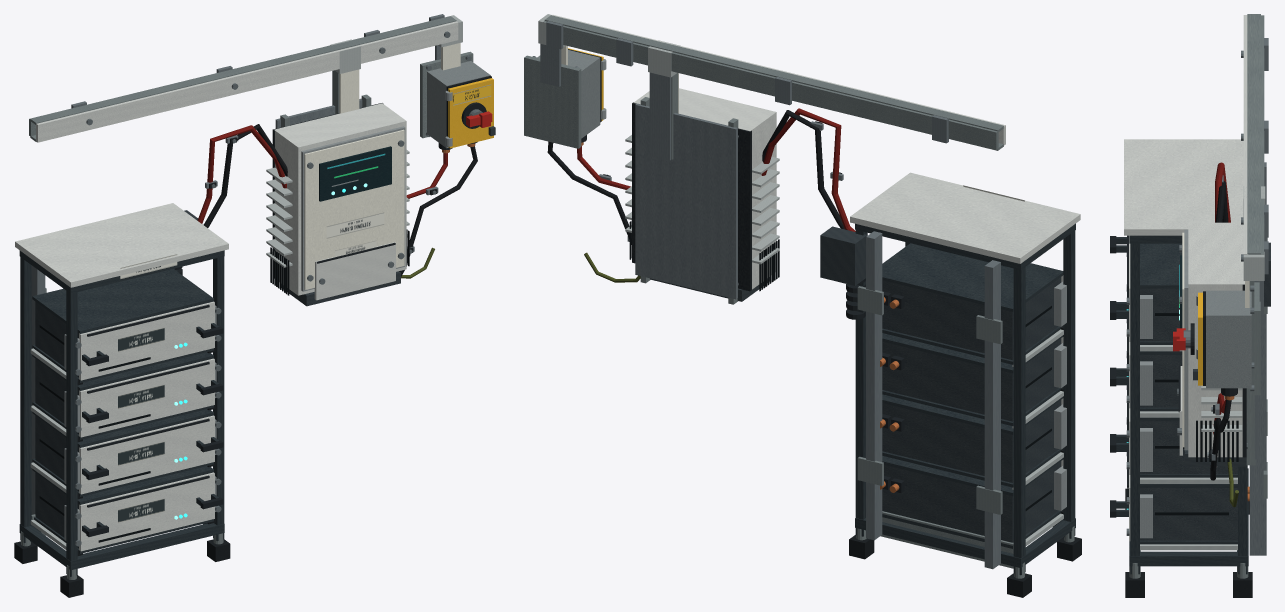
The model's file is PZ_Battery_Rack_HG48.glb.
3 renders of one model, left to right at view 1: azimuth 30°, elevation 25°; view 2: azimuth 150°, elevation 25°; view 3: azimuth 270°, elevation 25°, orthographic. The views are drawn at different scales.
Visible parts, largest first — view 1: Rack_Top_Lid, CableTrunk_Horizontal_Cover, Inverter_FrontPanel, Inverter_Case_Main, Battery_04_Upper_Crim, Battery_03_Front_Fascia, Battery_02_Front_Fascia, Battery_04_Front_Fascia, Battery_01_Front_Fascia, Rack_Post_X-0.373_Y-0.068, Rack_Post_X-0.373_Y-0.475, Inverter_ServicePort_Hatch (+28 smaller); view 2: Inverter_WallBackPlate, Rack_Top_Lid, CableTrunk_Horizontal_Backplate, Battery_02_Shell, Battery_03_Shell, Battery_04_Shell, Battery_01_Shell, Battery_04_Upper_Crim, Rack_BackWall_Strut_-0.28, Rack_BackWall_Strut_+0.28, Isolator_WallBracket, Inverter_Case_Main (+23 smaller); view 3: Rack_Top_Lid, Inverter_Case_Main, Isolator_GrayHousing, Battery_01_Shell, CableTrunk_Horizontal_Lip_2.094, Rack_Post_X+0.373_Y-0.475, Rack_BackWall_Strut_+0.28, Battery_02_Shell, Battery_04_Upper_Crim, Rack_Crossbeam_Side_X+0.37_Z0.14, Battery_03_Shell, Battery_04_Shell (+33 smaller).
Boxes of the visible parts, bbox=[...] form: Rack_Top_Lid: bbox=[15, 203, 228, 287]; CableTrunk_Horizontal_Cover: bbox=[36, 21, 458, 142]; Inverter_FrontPanel: bbox=[304, 129, 404, 289]; Inverter_Case_Main: bbox=[274, 103, 406, 295]; Battery_04_Upper_Crim: bbox=[32, 269, 213, 333]; Battery_03_Front_Fascia: bbox=[79, 358, 214, 437]; Battery_02_Front_Fascia: bbox=[79, 415, 214, 494]; Battery_04_Front_Fascia: bbox=[79, 301, 214, 380]; Battery_01_Front_Fascia: bbox=[79, 472, 214, 551]; Rack_Post_X-0.373_Y-0.068: bbox=[20, 257, 31, 542]; Rack_Post_X-0.373_Y-0.475: bbox=[66, 291, 77, 576]; Inverter_ServicePort_Hatch: bbox=[314, 242, 395, 300]; Inverter_WallBackPlate: bbox=[635, 103, 737, 299]; Rack_Top_Lid: bbox=[850, 172, 1080, 263]; CableTrunk_Horizontal_Backplate: bbox=[543, 21, 998, 150]; Battery_02_Shell: bbox=[882, 400, 1061, 482]; Battery_03_Shell: bbox=[882, 338, 1061, 421]; Battery_04_Shell: bbox=[882, 277, 1061, 360]; Battery_01_Shell: bbox=[882, 461, 1061, 542]; Battery_04_Upper_Crim: bbox=[882, 243, 1063, 311]; Rack_BackWall_Strut_-0.28: bbox=[984, 260, 1000, 569]; Rack_BackWall_Strut_+0.28: bbox=[866, 231, 882, 540]; Isolator_WallBracket: bbox=[524, 55, 581, 148]; Inverter_Case_Main: bbox=[633, 88, 776, 289]; Rack_Top_Lid: bbox=[1124, 139, 1243, 235]; Inverter_Case_Main: bbox=[1188, 222, 1244, 457]; Isolator_GrayHousing: bbox=[1206, 290, 1251, 388]; Battery_01_Shell: bbox=[1140, 488, 1237, 540]; CableTrunk_Horizontal_Lip_2.094: bbox=[1247, 14, 1260, 254]; Rack_Post_X+0.373_Y-0.475: bbox=[1130, 243, 1139, 574]; Rack_BackWall_Strut_+0.28: bbox=[1249, 237, 1266, 555]; Battery_02_Shell: bbox=[1140, 421, 1237, 474]; Battery_04_Upper_Crim: bbox=[1140, 243, 1182, 288]; Rack_Crossbeam_Side_X+0.37_Z0.14: bbox=[1130, 551, 1247, 566]; Battery_03_Shell: bbox=[1140, 355, 1182, 407]; Battery_04_Shell: bbox=[1140, 288, 1179, 341].
Bounding box in the file's own units: 2.34 × 2.1 × 0.6075.
Materials: 4 (2 with a texture image).
